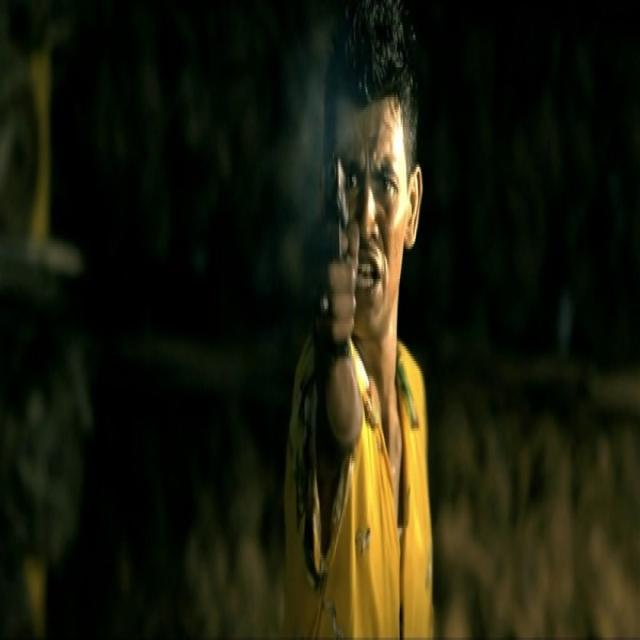weapons: (309, 126, 359, 314)
